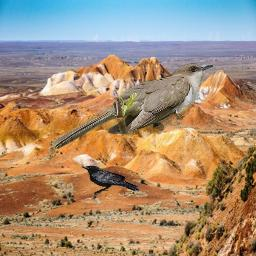Crow: (81, 165, 140, 195)
Cuckoo: (51, 62, 213, 149)
